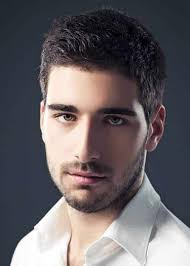s.white: (101, 128, 144, 181)
